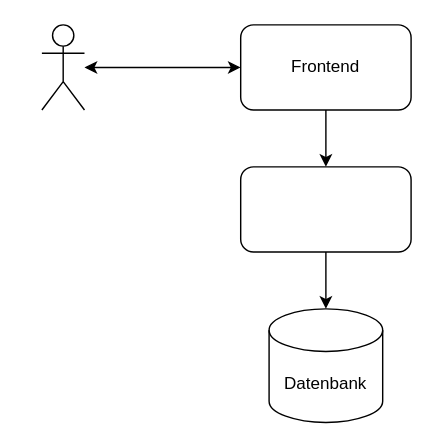
Image size: 436x447. Some labels were removed from this diagram. Here are the shapes that lost their labels. From the top down, the box of each, then its label:
(40, 23, 84, 110): Endnutzer
(239, 165, 411, 252): Backend
